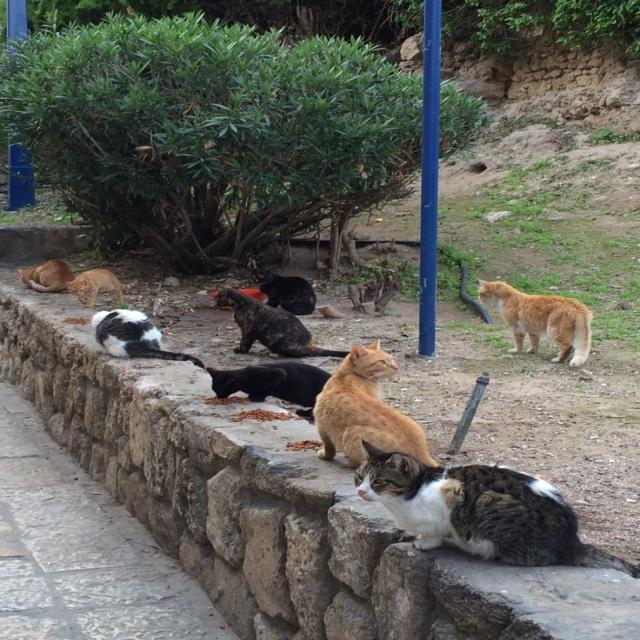cat: (355, 441, 636, 577), (313, 340, 438, 467), (478, 281, 593, 367), (217, 288, 347, 357), (92, 309, 205, 367), (207, 361, 330, 408), (252, 269, 317, 315), (68, 269, 137, 308), (18, 259, 75, 292)
